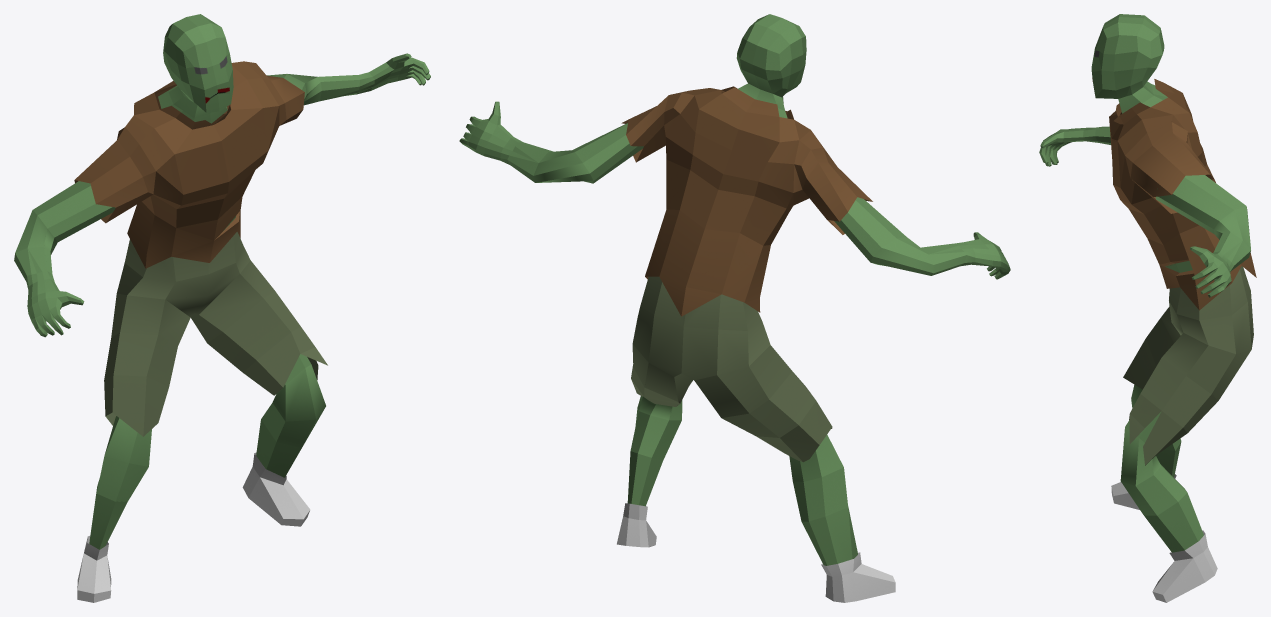
File: ZombieAttack(99).obj
The picture shows the model from 3 angles, left to right: view 1: azimuth 30°, elevation 25°; view 2: azimuth 150°, elevation 25°; view 3: azimuth 270°, elevation 25°; orthographic projection. The views are drawn at different scales.
Visible parts, largest first — view 1: Object001; view 2: Object001; view 3: Object001.
Part boxes in pixels (x1,y1,x2,y2): Object001: (14, 14, 430, 602); Object001: (459, 14, 1010, 602); Object001: (1039, 14, 1256, 602).
Size of the model in its own units: 49.62 by 55.35 by 20.6.
